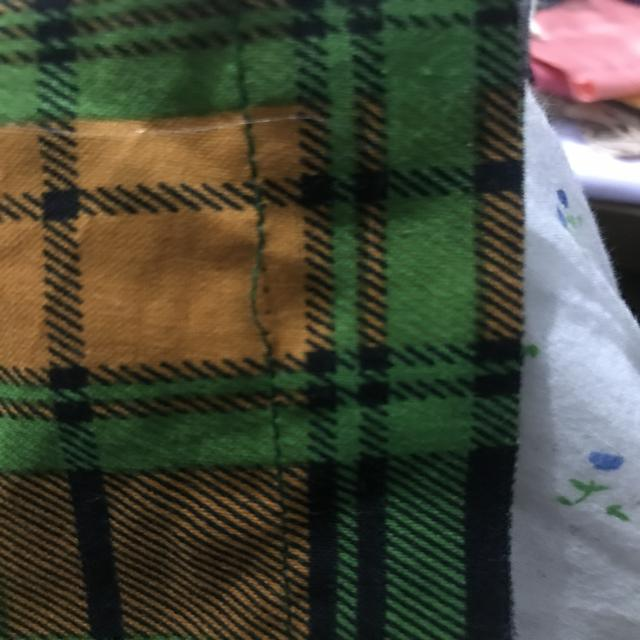skip: (224, 230, 306, 364)
